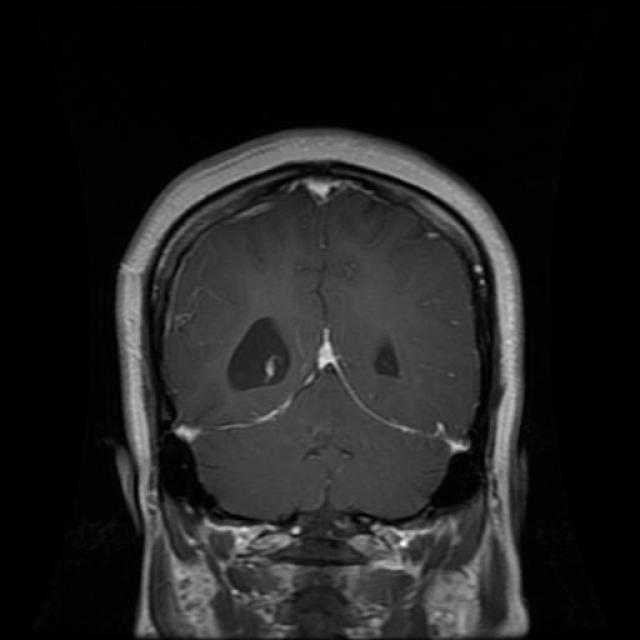glioma: (228, 320, 290, 387)
